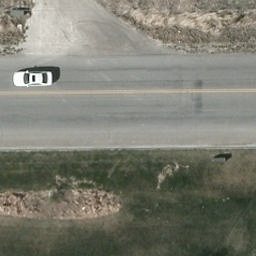car: (12, 71, 54, 86)
